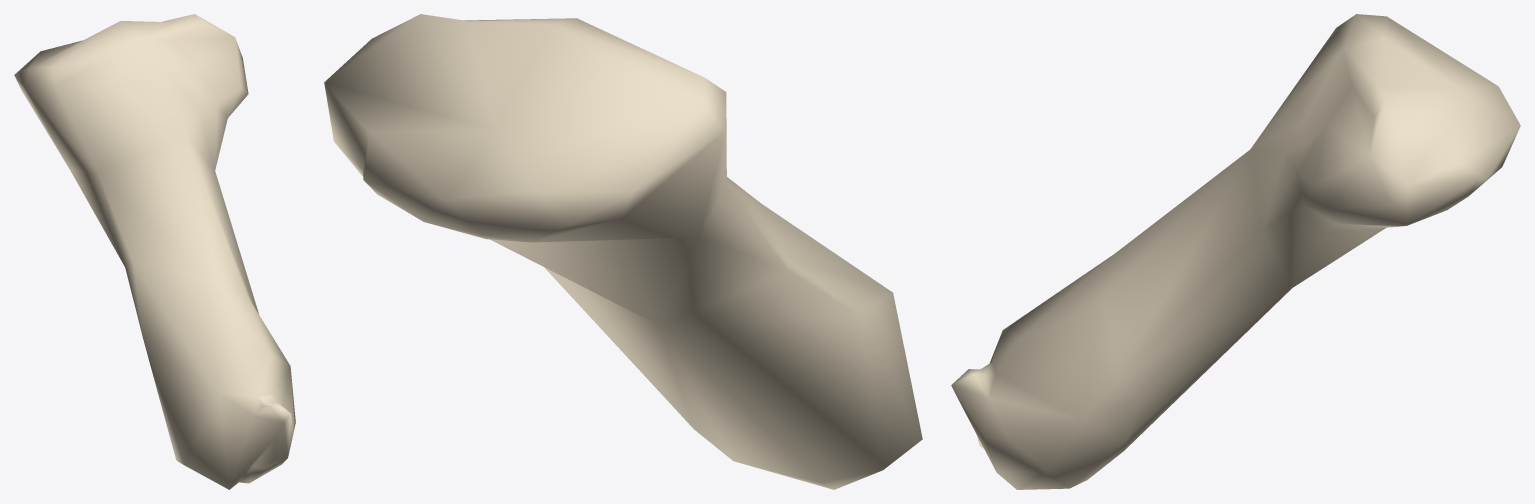
The model's file is distal-phalanx-of-fifth-finger-of-hand-l.glb.
3 views of the same model, side by side, from view 1: azimuth 30°, elevation 25°; view 2: azimuth 150°, elevation 25°; view 3: azimuth 270°, elevation 25° (orthographic). The views are drawn at different scales.
Parts seen in each view (by area): view 1: Distal phalanx of fifth finger of hand.l; view 2: Distal phalanx of fifth finger of hand.l; view 3: Distal phalanx of fifth finger of hand.l.
Boxes of the visible parts, x1,y1,x2,y2 form: Distal phalanx of fifth finger of hand.l: (14,14,295,489); Distal phalanx of fifth finger of hand.l: (324,14,922,489); Distal phalanx of fifth finger of hand.l: (951,14,1520,489).
Size of the model in its own units: 0.00858 by 0.0131 by 0.0148.
